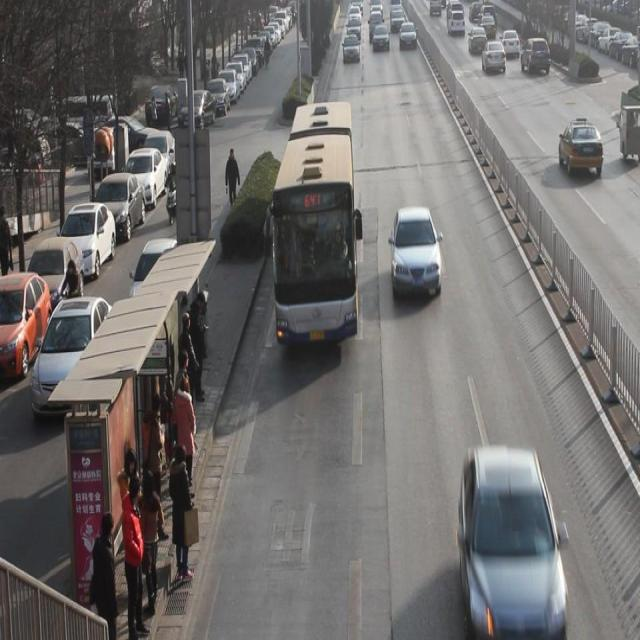car: (459, 449, 568, 640), (390, 206, 442, 298), (558, 117, 604, 179), (520, 38, 551, 76), (481, 42, 506, 74), (500, 29, 520, 59), (342, 32, 360, 64), (400, 21, 418, 50), (374, 24, 390, 54), (468, 27, 487, 52)
van: (272, 101, 358, 347)
